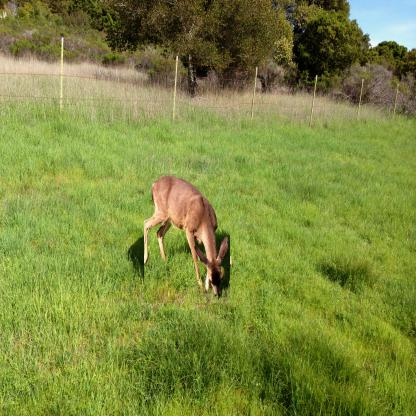Deer: (144, 174, 230, 303)
